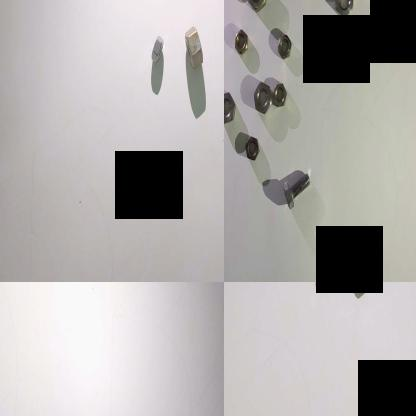Bolts: (279, 169, 313, 211)
NUTS: (181, 8, 207, 84), (343, 282, 371, 314), (146, 30, 166, 74), (250, 82, 274, 114), (301, 282, 332, 305), (274, 29, 294, 62), (270, 80, 288, 110), (315, 30, 331, 63), (233, 26, 249, 58), (243, 134, 259, 164), (332, 0, 354, 20), (224, 89, 235, 125), (242, 0, 267, 12)
